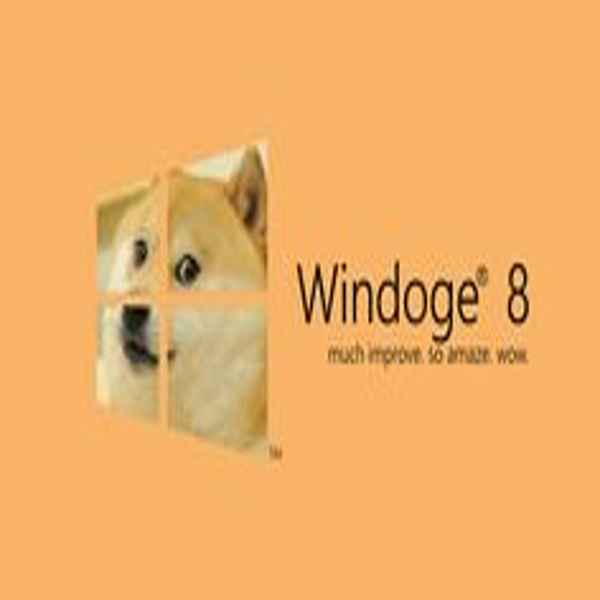doge: (88, 150, 277, 444)
